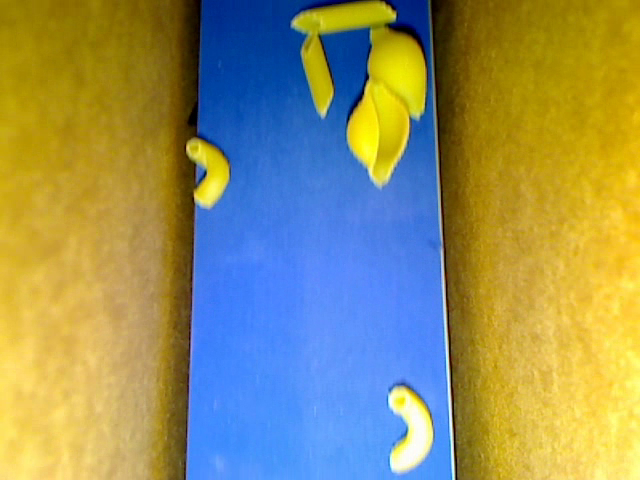elbow: (388, 386, 429, 473), (186, 136, 230, 208)
penne: (288, 1, 397, 34), (299, 30, 334, 116)
shell: (344, 80, 410, 187), (366, 24, 425, 120)
